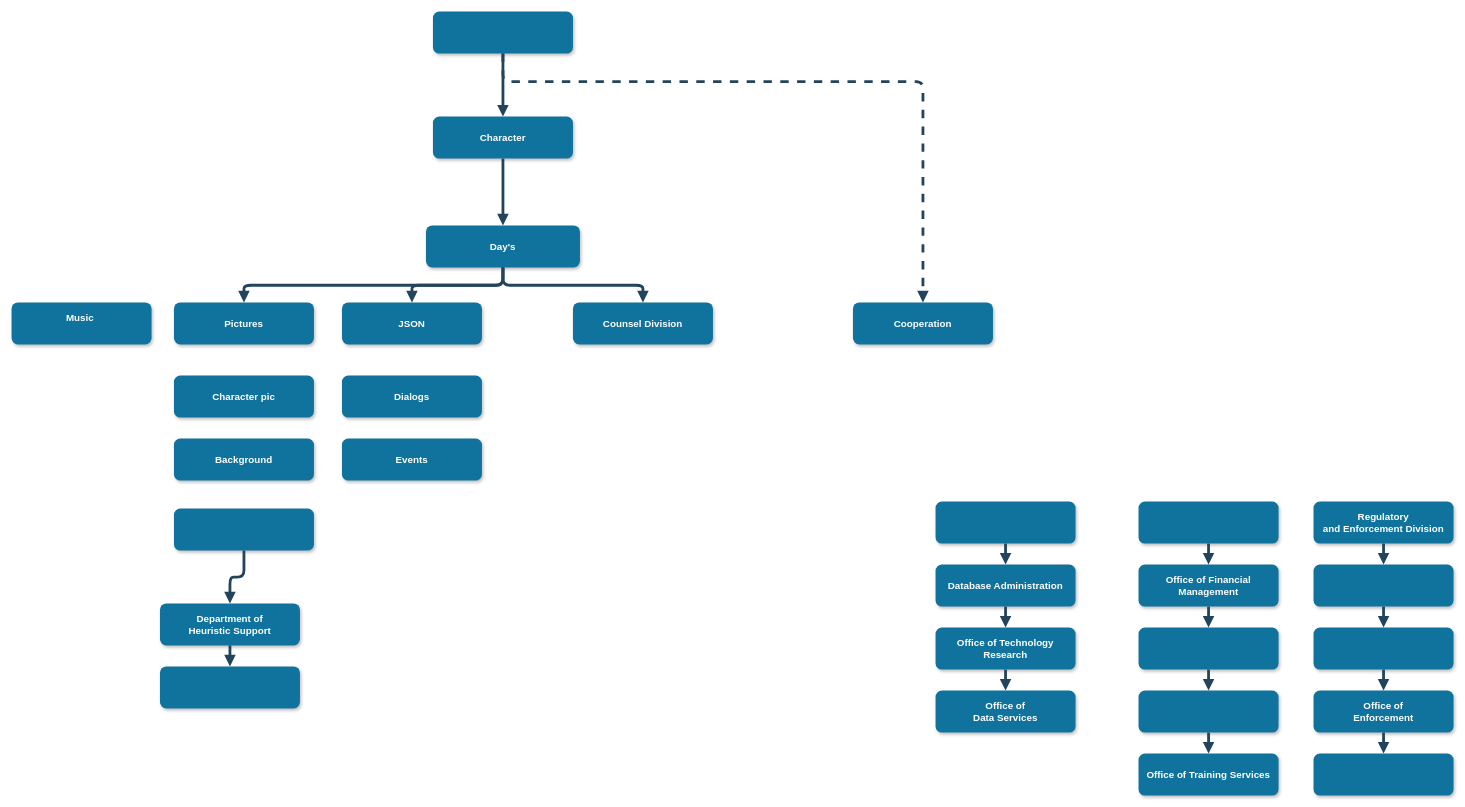
Some shapes in this 1465 by 807 pixel diagram are drawn without their labels. The shapes that lost their labels are listed below. From the top down, each one's centre as x and y in pixels, then its label:
[503,33]: User
[244,530]: UI
[1005,523]: IT Division
[1208,523]: Management Programs Division
[1383,586]: Office of Regulatory Policy
[1208,649]: Office of Human Resources
[1383,649]: Office Compliance
[230,688]: Office of Intelligence Support
[1208,712]: Office of Management
[1383,775]: Office of Regulatory Support
